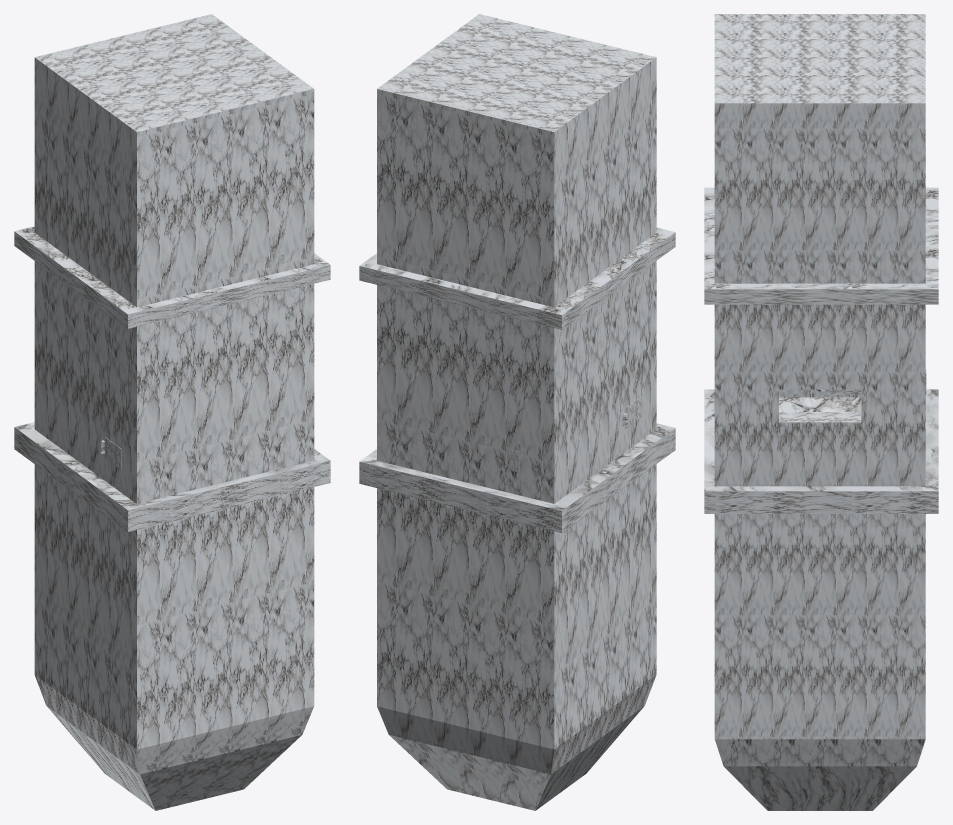
File: SHIKAKU_Stage_3.obj
3 renders of one model, left to right at view 1: azimuth 30°, elevation 25°; view 2: azimuth 150°, elevation 25°; view 3: azimuth 270°, elevation 25°, orthographic. The views are drawn at different scales.
Visible parts, largest first — view 1: Phase_3_Cube.003, Cube.005_Cube.025, Cube.006_Cube.026; view 2: Phase_3_Cube.003, Cube.005_Cube.025, Cube.006_Cube.026; view 3: Phase_3_Cube.003, Cube.005_Cube.025, Cube.006_Cube.026.
Boxes of the visible parts, left/top/right/bottom form: Phase_3_Cube.003: left=34, top=14, right=314, bottom=810; Cube.005_Cube.025: left=14, top=422, right=330, bottom=532; Cube.006_Cube.026: left=14, top=226, right=330, bottom=328; Phase_3_Cube.003: left=377, top=14, right=656, bottom=810; Cube.005_Cube.025: left=359, top=423, right=675, bottom=532; Cube.006_Cube.026: left=359, top=227, right=675, bottom=329; Phase_3_Cube.003: left=714, top=14, right=925, bottom=810; Cube.005_Cube.025: left=704, top=389, right=938, bottom=513; Cube.006_Cube.026: left=704, top=187, right=938, bottom=304.
Size of the model in its own units: 106 by 355 by 103.
7 materials, 7 textured.
